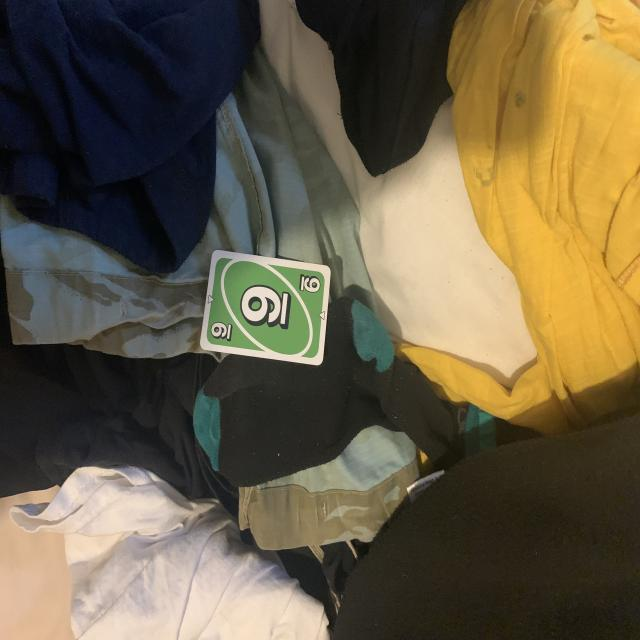lgreen-9: (296, 270, 324, 298)
